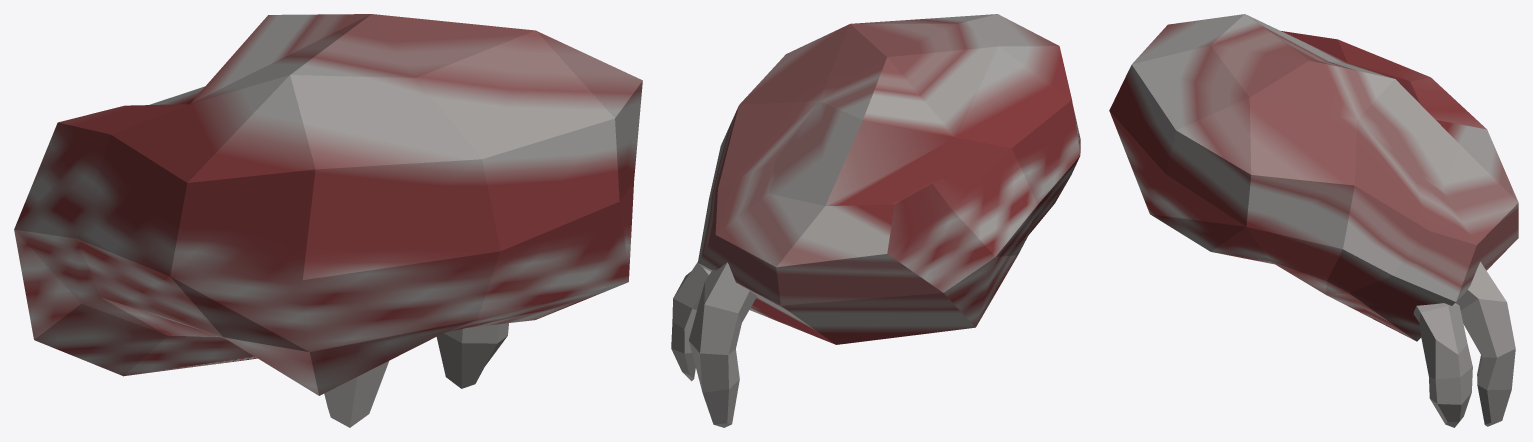
File: SM_Chr_Attach_Turban_02.fbx
3 renders of one model, left to right at view 1: azimuth 30°, elevation 25°; view 2: azimuth 150°, elevation 25°; view 3: azimuth 270°, elevation 25°, orthographic. The views are drawn at different scales.
Parts seen in each view (by area): view 1: SM_Chr_Attach_Turban_02; view 2: SM_Chr_Attach_Turban_02; view 3: SM_Chr_Attach_Turban_02.
Boxes of the visible parts, x1,y1,x2,y2 form: SM_Chr_Attach_Turban_02: (14, 14, 642, 427); SM_Chr_Attach_Turban_02: (671, 14, 1080, 427); SM_Chr_Attach_Turban_02: (1109, 14, 1518, 427).
Size of the model in its own units: 31.61 by 32.16 by 35.48.
